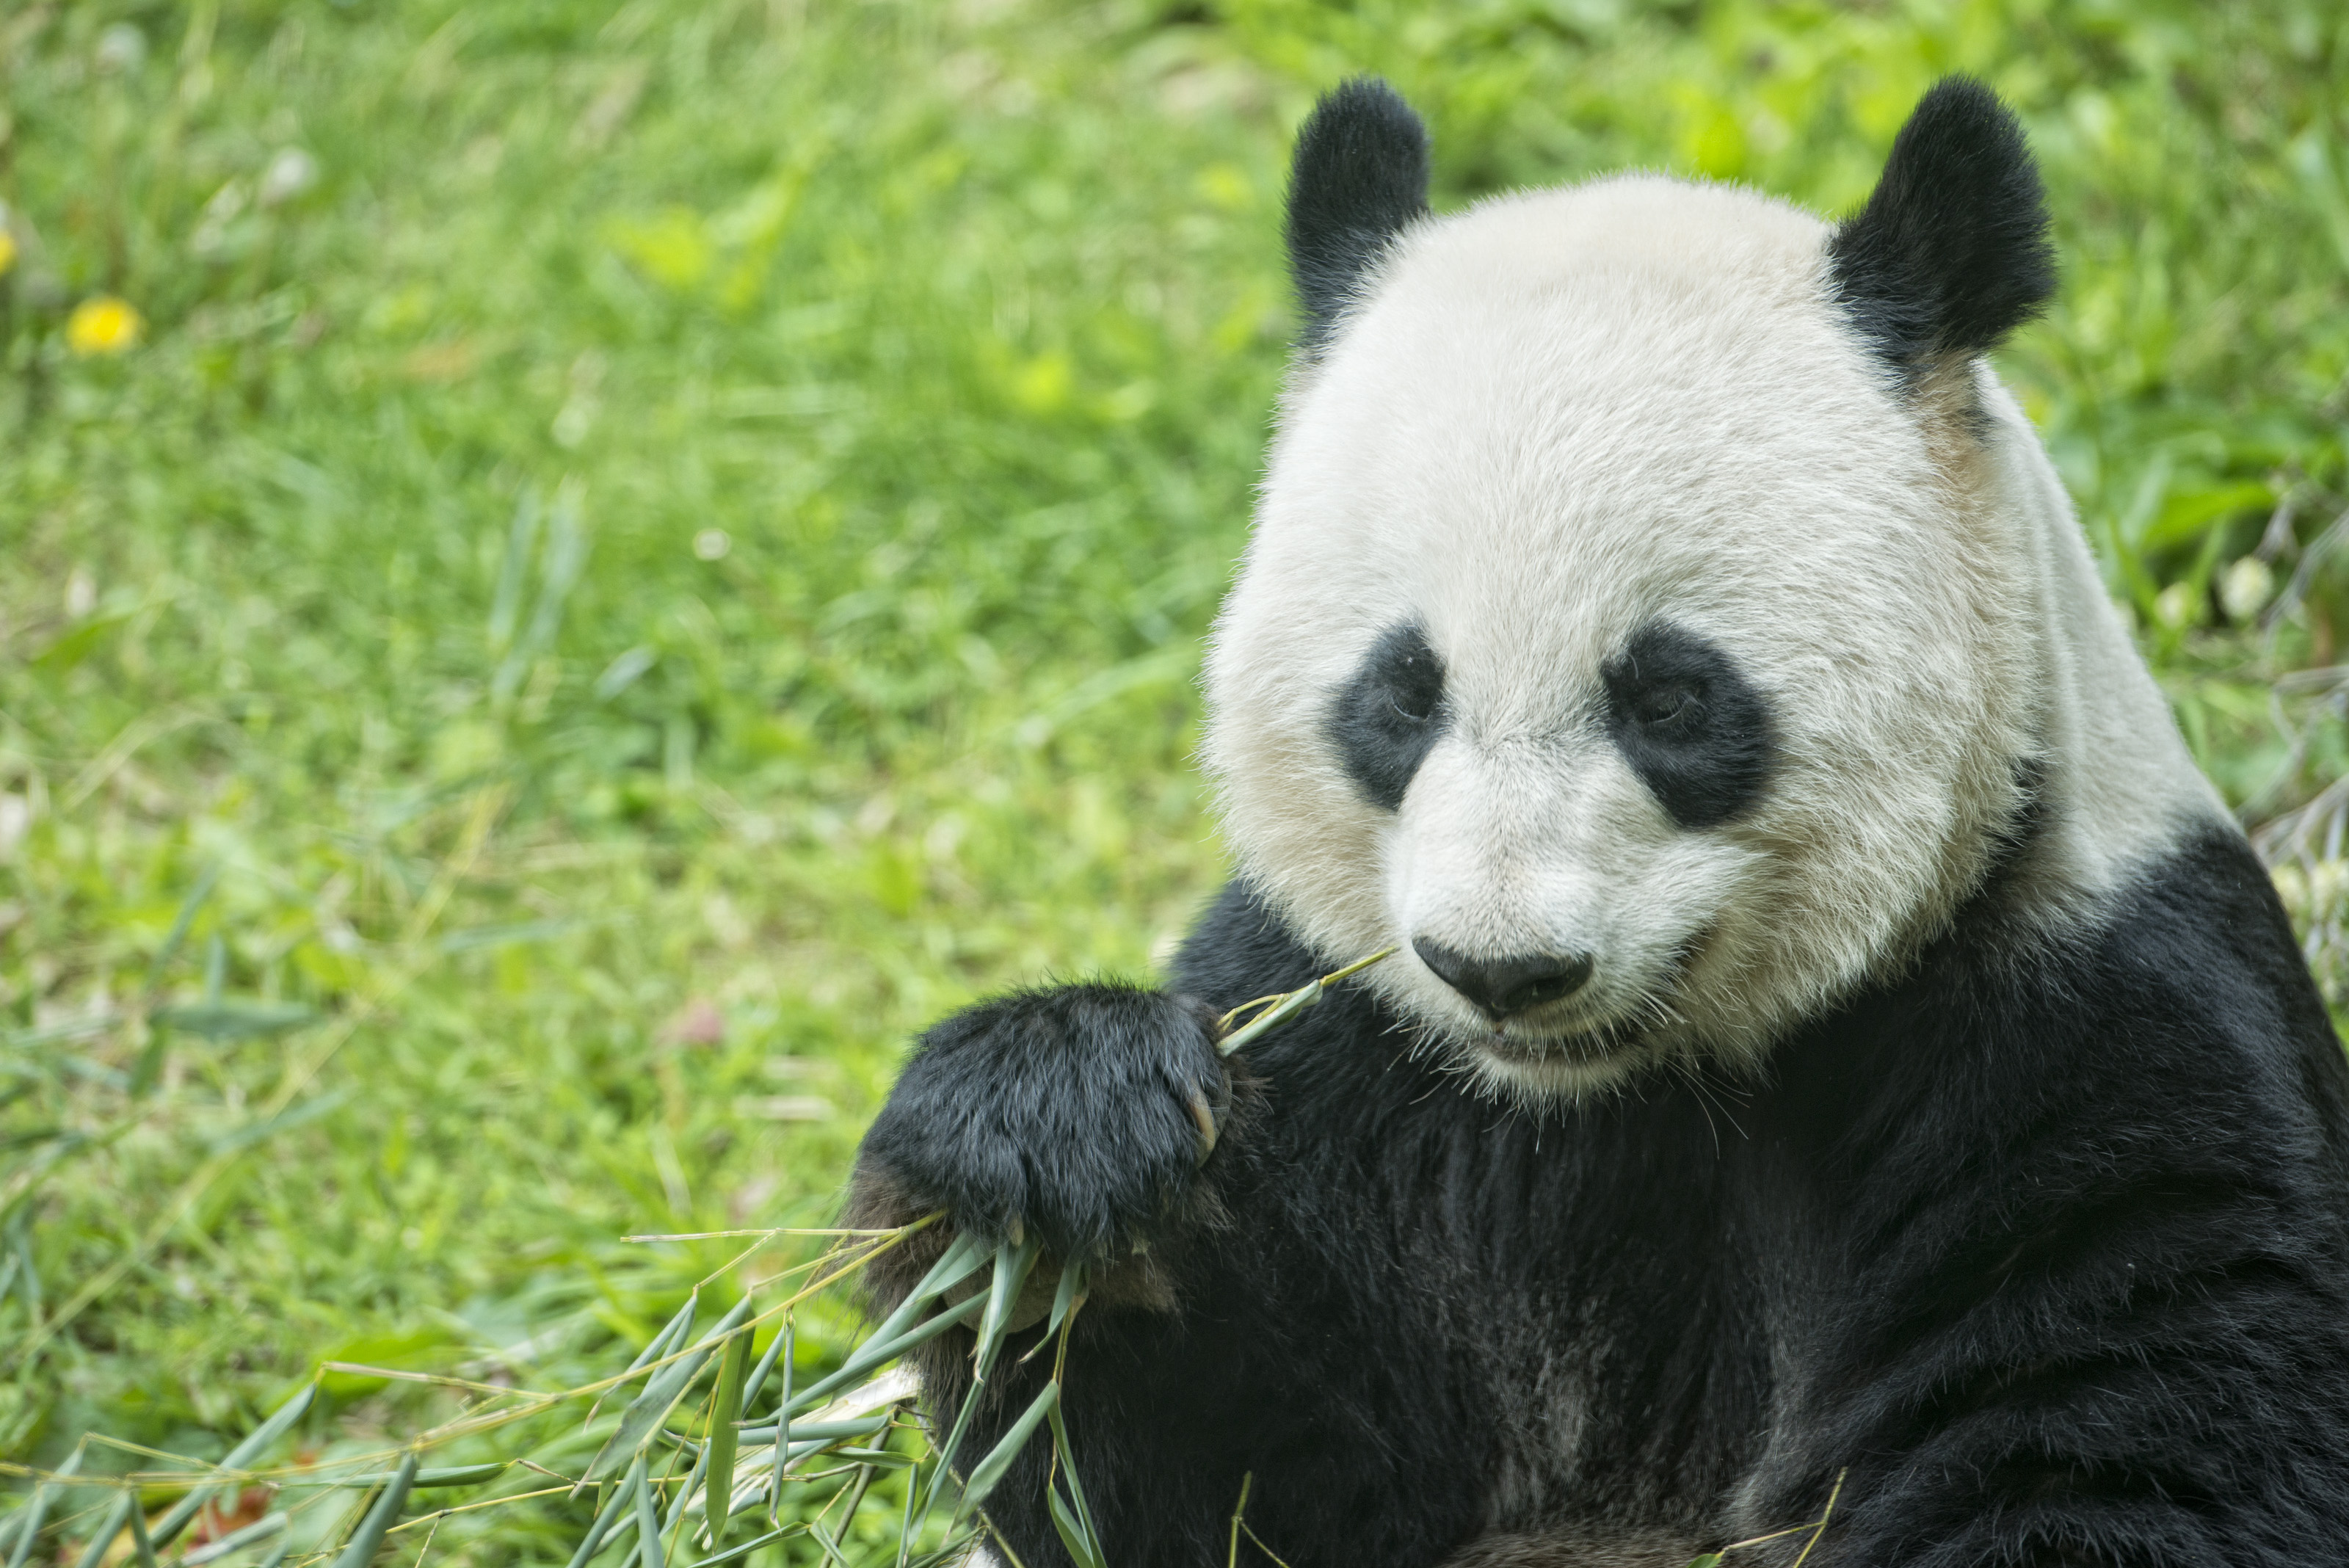panda: (899, 49, 2270, 1558)
